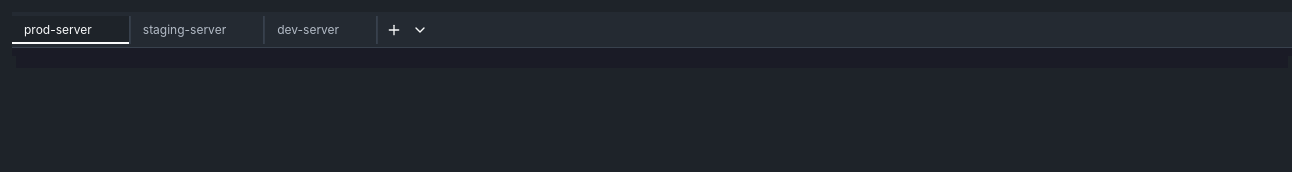
Test: TerminalTabs › right-click context menu › opens with Close / Close others / Close to the right on a tab
Step 1. Right-click the tab "prod-server" → (71, 30), box x1=12 y1=16 x2=131 y2=44
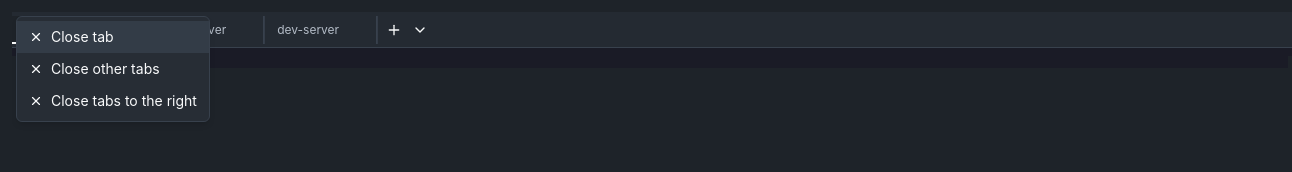
Result: the menu is shown at x1=16 y1=16 x2=210 y2=122
Result: the menu item "Close tab" is shown at x1=17 y1=21 x2=209 y2=53
Result: the menu item "Close other tabs" is shown at x1=17 y1=53 x2=209 y2=85
